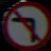Don't turn left: (6, 3, 44, 43)
